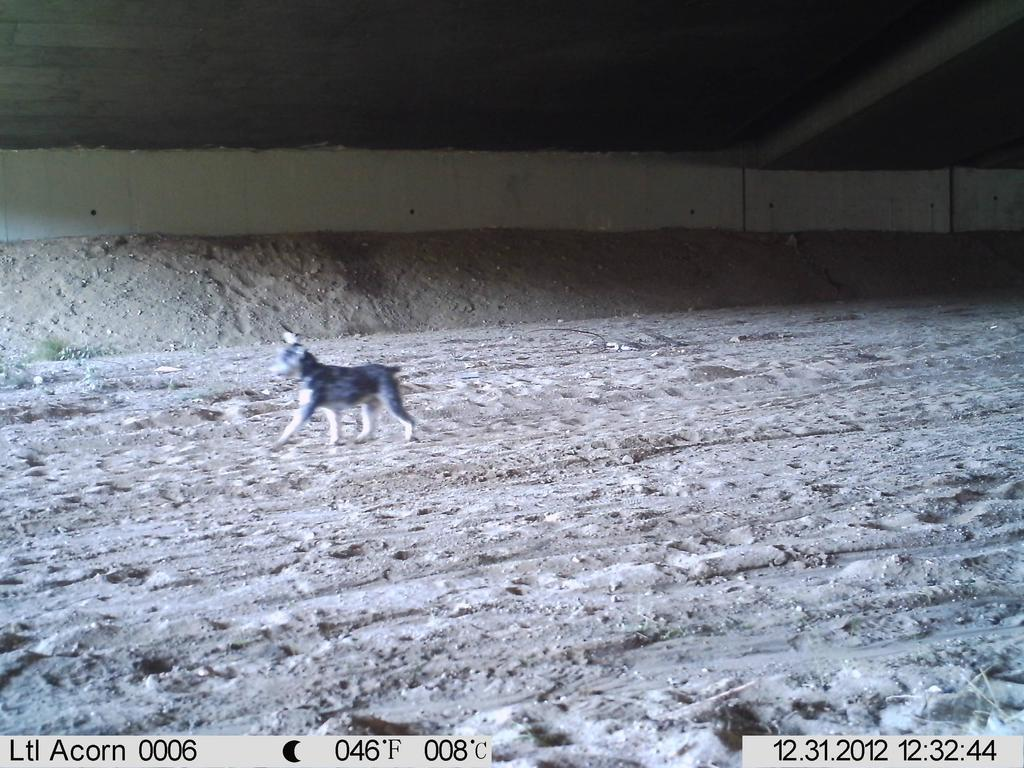dog: (264, 319, 424, 459)
